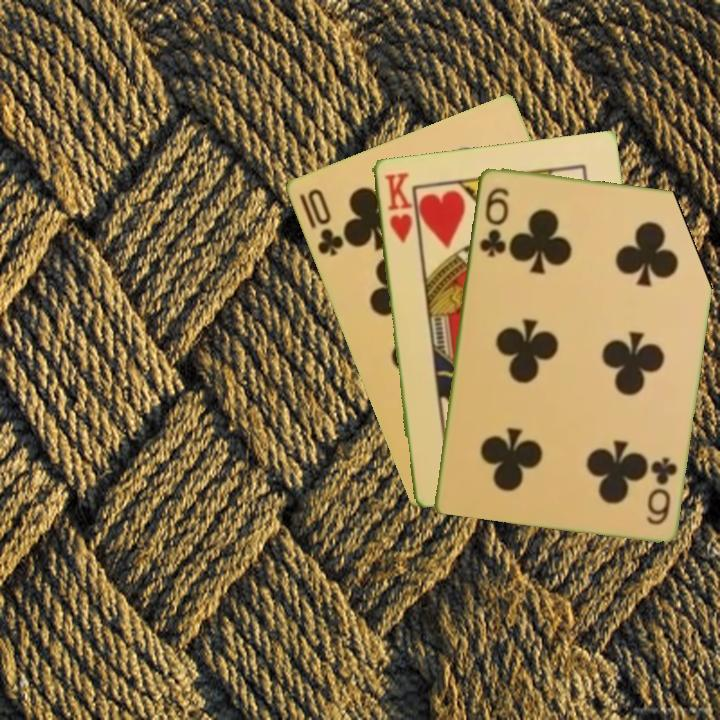10c: (295, 184, 346, 259)
6c: (475, 183, 512, 260), (643, 453, 680, 528)
Kh: (380, 169, 415, 245)
